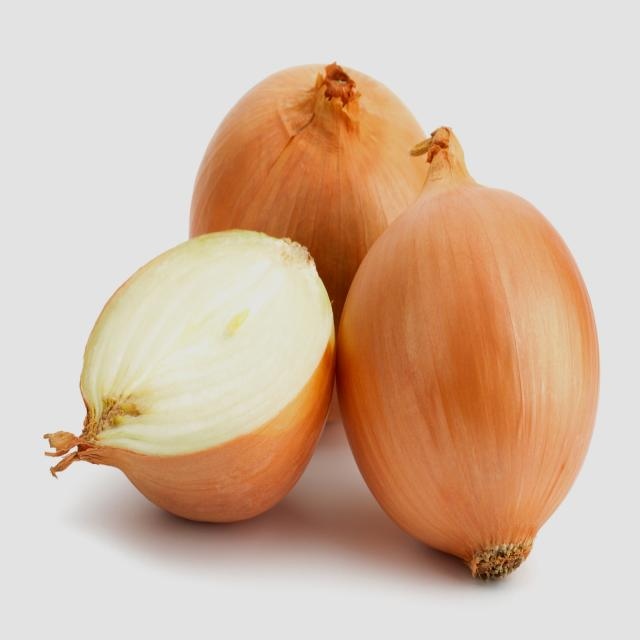onion: (335, 128, 605, 586), (188, 63, 461, 422), (48, 225, 340, 539)
